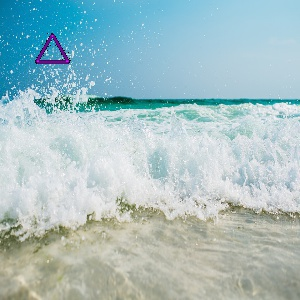triangle: (32, 30, 73, 66)
